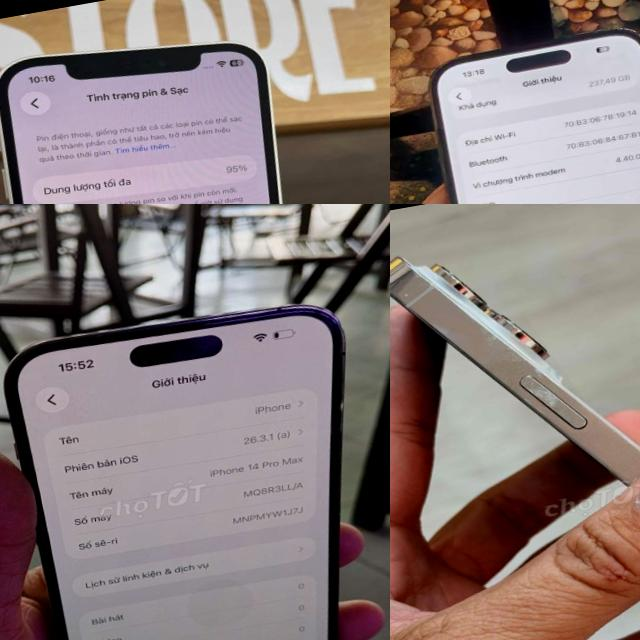scratch: (518, 360, 566, 424), (614, 11, 640, 53), (390, 276, 418, 309)
